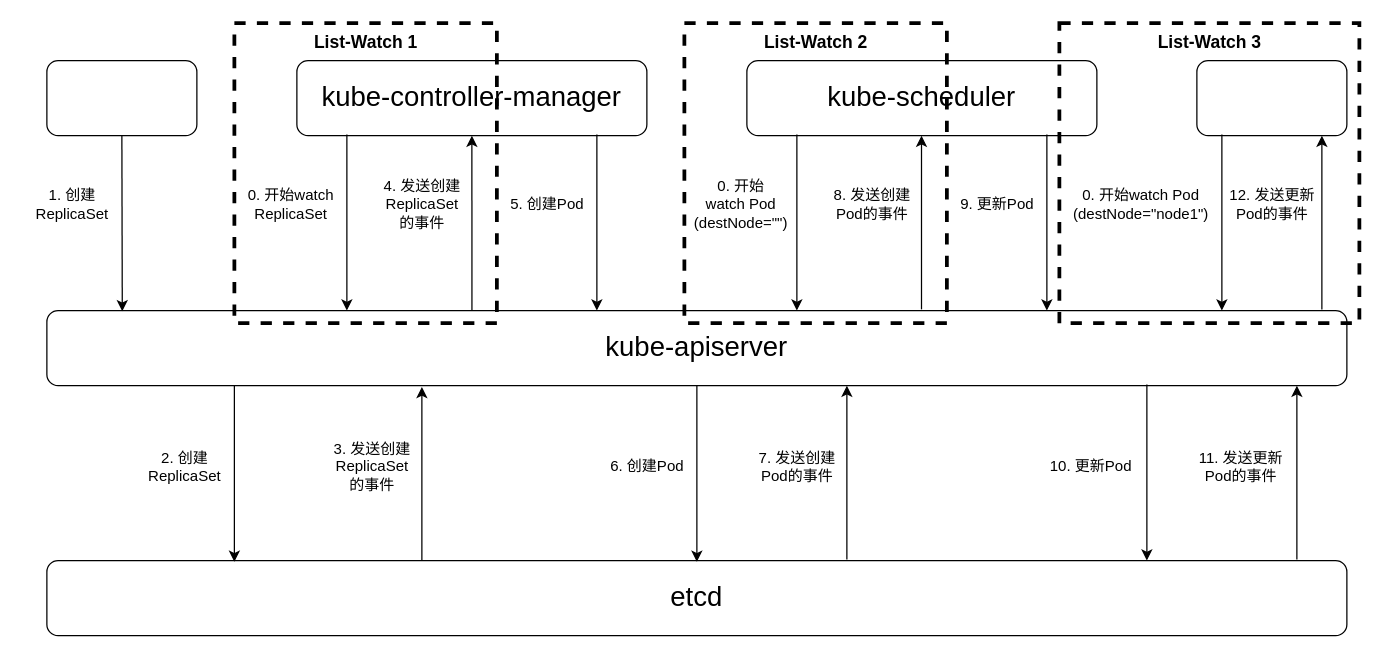
Some shapes in this 1383 by 658 pixel diagram are drawn without their labels. The centre of each missing label's shape, as x and y in pixels:
kubectl: [121,97]
kubelet: [1271,97]
